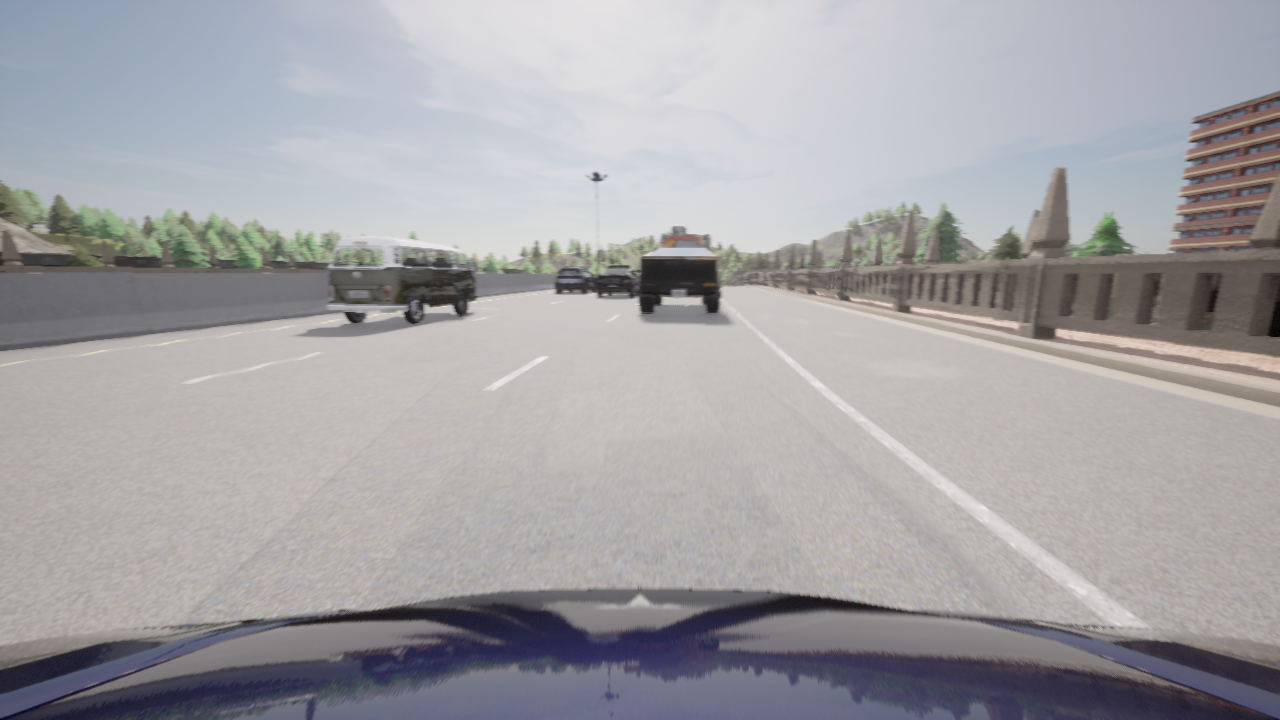cyclist: (0, 588, 1279, 719), (326, 236, 476, 323), (639, 247, 720, 313), (596, 265, 639, 296), (662, 226, 710, 249), (555, 266, 596, 292), (639, 271, 640, 280)
